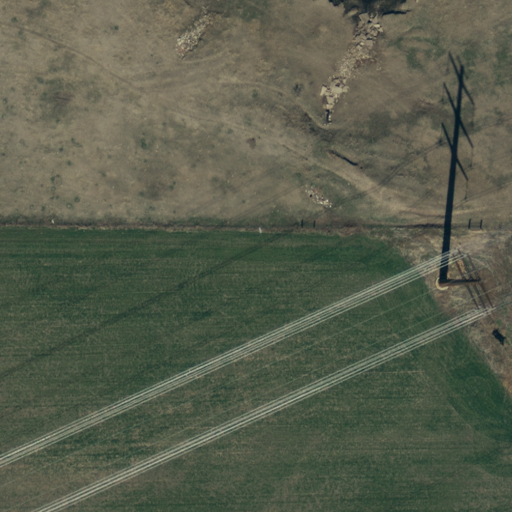TT: (430, 239, 500, 328)
